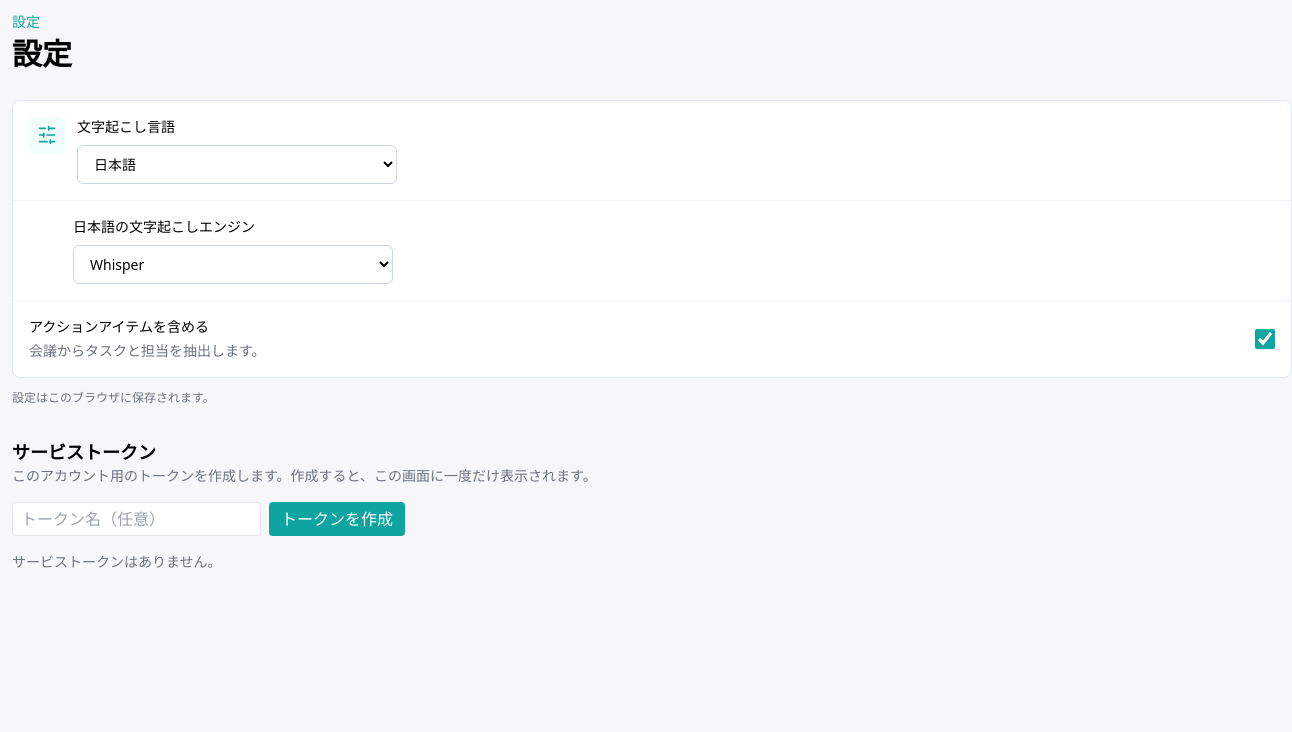
Test case: SettingsView › offers hayamimi for Japanese when the server reports it
Expected: the field labelled "トークン名" is shown, [12,502,261,536]
Select "早耳" in the dropdown labelled "日本語の文字起こしエンジン": (233, 264) [73,245,393,284]
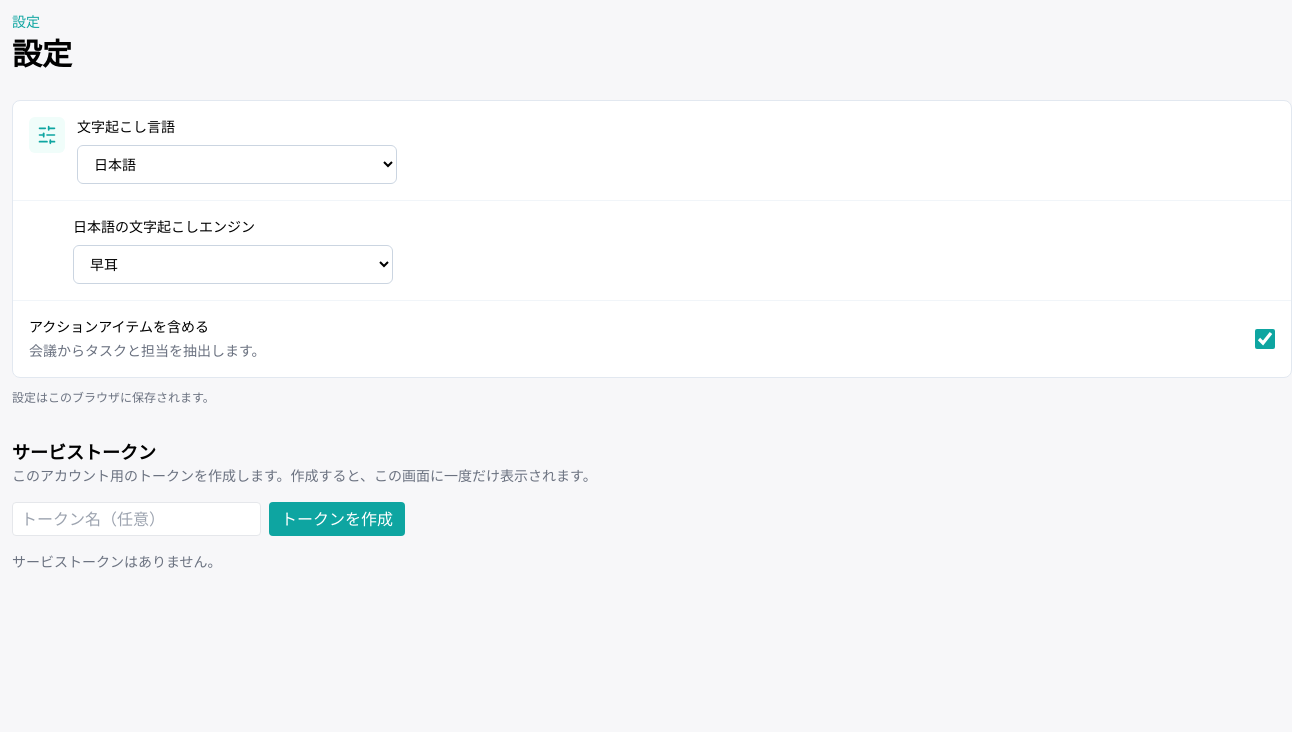
Select "英語" in the dropdown labelled "文字起こし言語": (237, 164) [77,145,397,184]
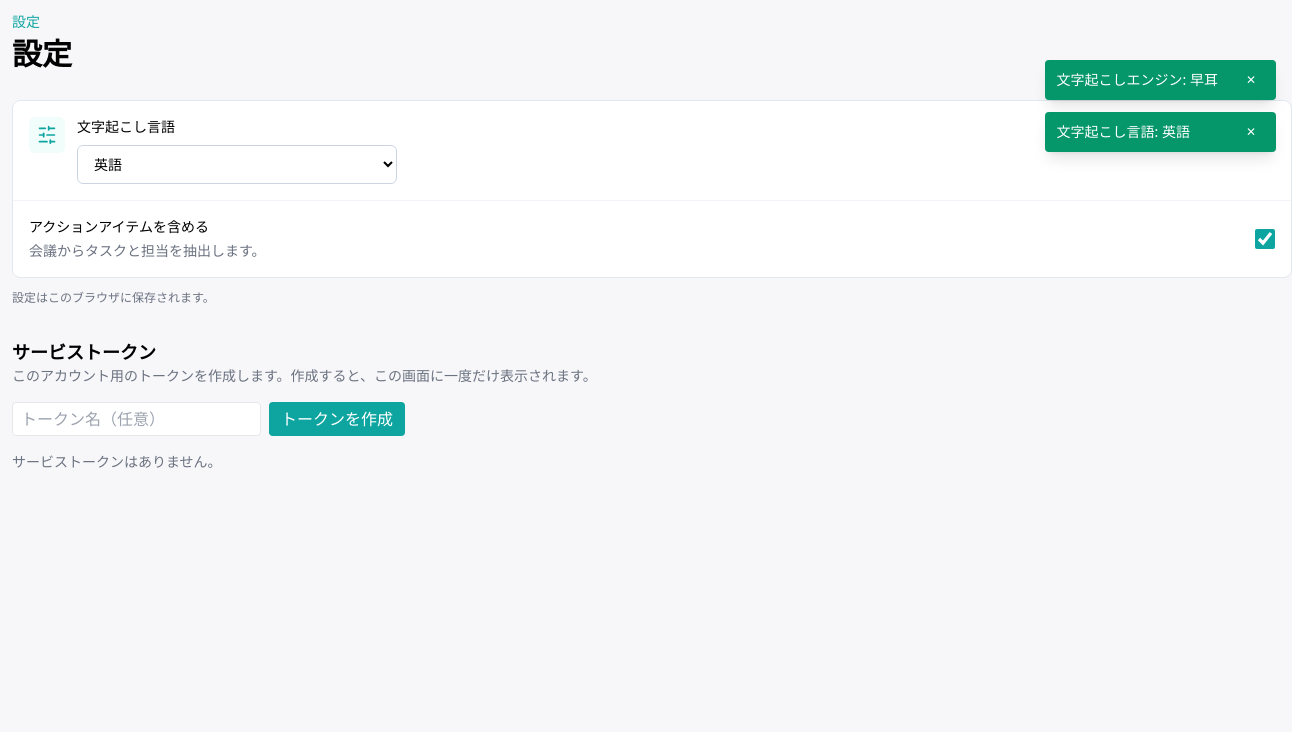
Result: the label labelled "日本語の文字起こしエンジン" is gone
